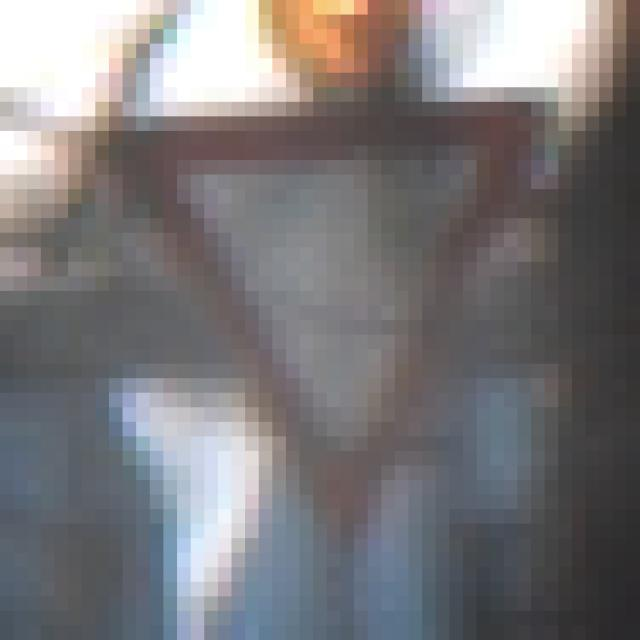Give Way: (83, 74, 573, 568)
